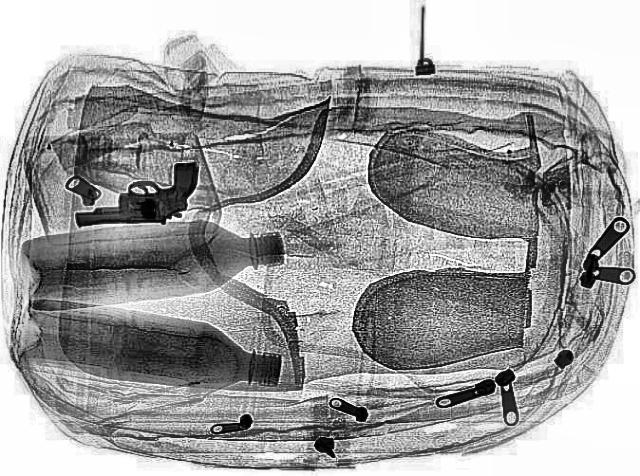Gun: (67, 162, 205, 228)
